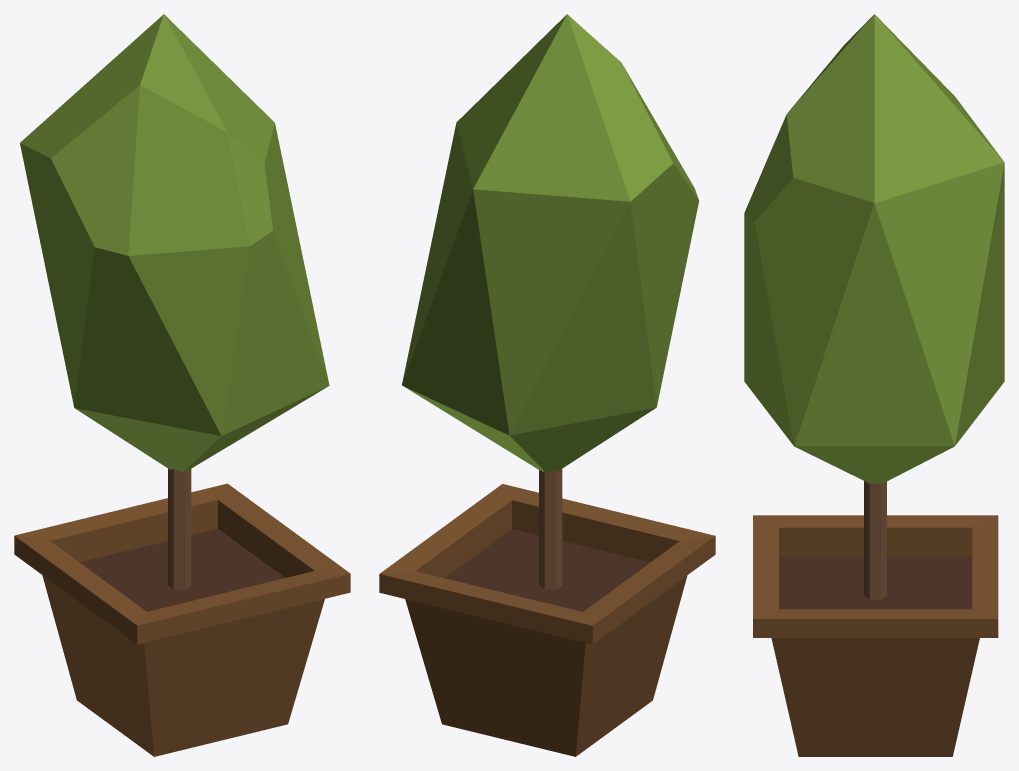
Rendered from pot2.fbx.
3 renders of one model, left to right at view 1: azimuth 30°, elevation 25°; view 2: azimuth 150°, elevation 25°; view 3: azimuth 270°, elevation 25°, orthographic.
Parts seen in each view (by area): view 1: Cube.010; view 2: Cube.010; view 3: Cube.010.
Boxes of the visible parts, <box> form: Cube.010: <box>14,14,350,756</box>; Cube.010: <box>379,14,715,756</box>; Cube.010: <box>744,14,1004,756</box>.
Bounding box in the file's own units: 1.5 × 4.29 × 1.44.
